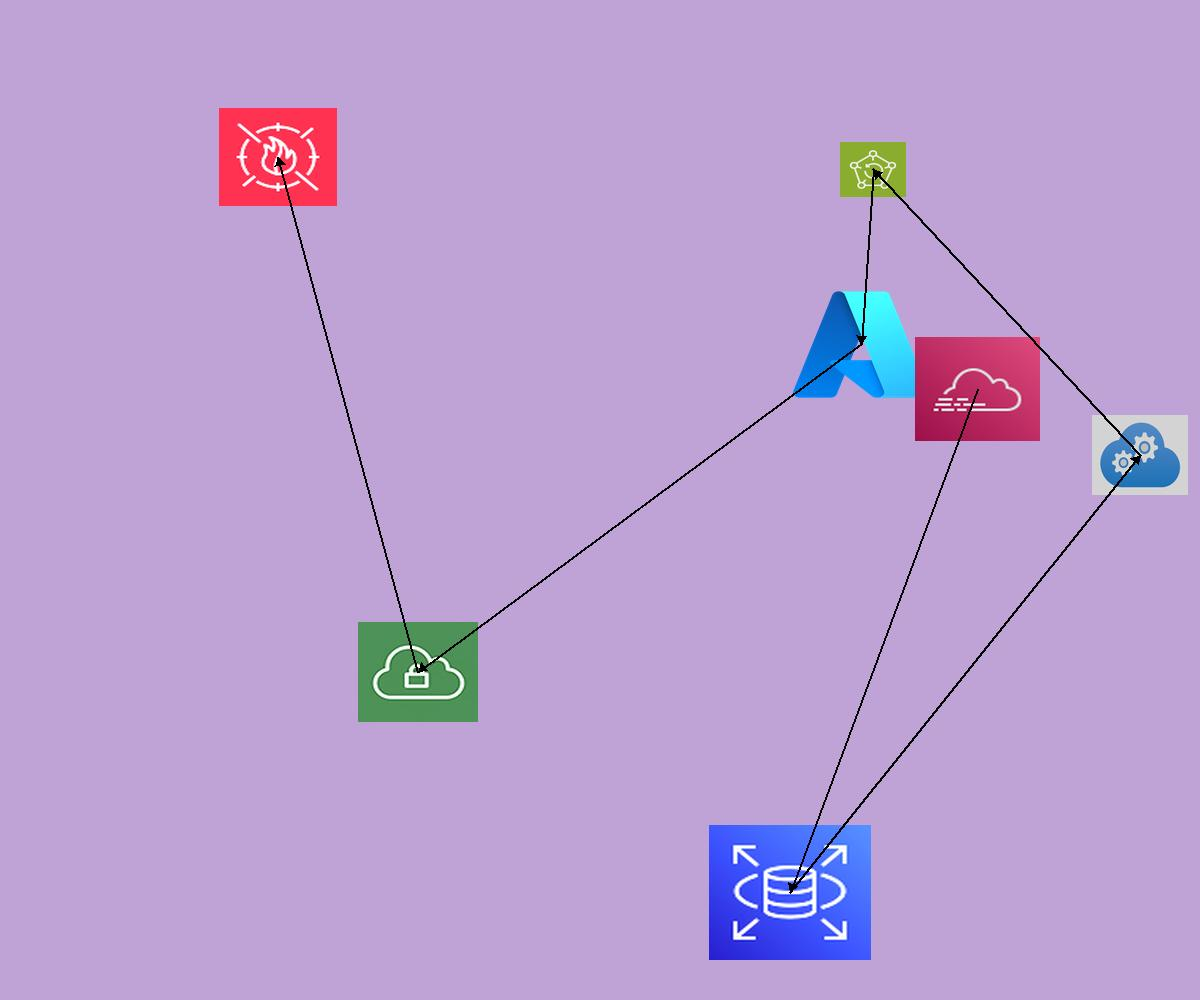AWS-Backup: (840, 142, 906, 197)
AWS-CloudTrail: (915, 337, 1040, 441)
AWS-Private_vpc: (358, 622, 478, 722)
AWS-RDS: (709, 825, 871, 960)
AWS-WAF: (219, 108, 337, 206)
Azure_cloud_services: (1092, 415, 1188, 495)
Azure_services: (787, 283, 935, 406)
